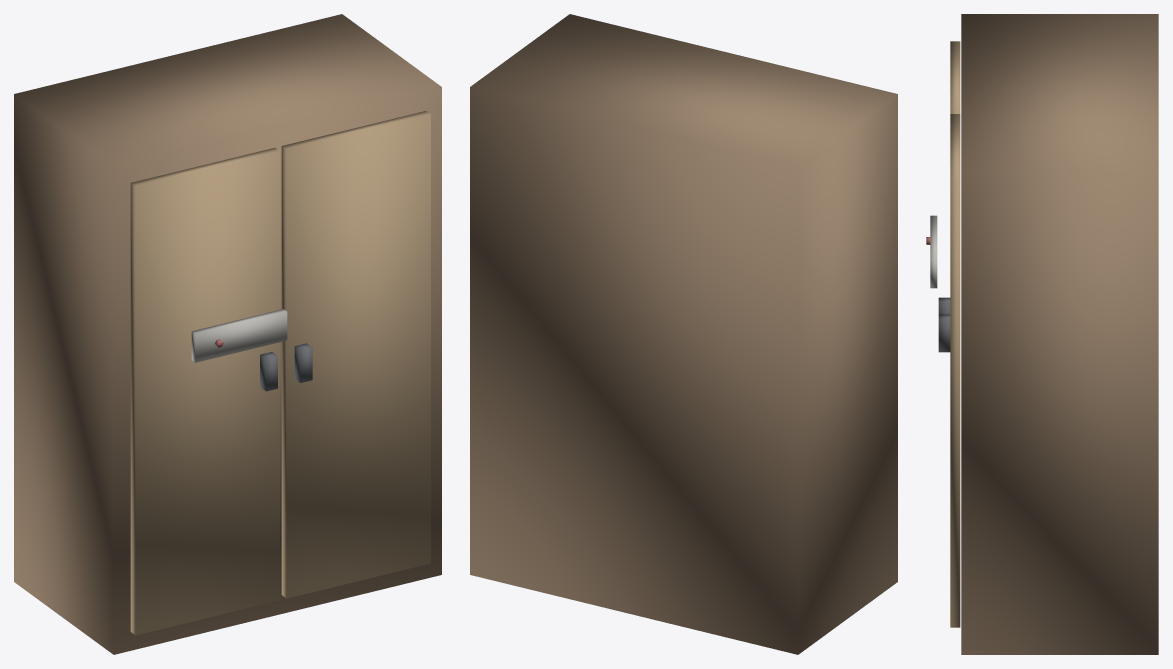
Rendered from dental_instrument_cabinet.glb.
3 views of the same model, side by side, from view 1: azimuth 30°, elevation 25°; view 2: azimuth 150°, elevation 25°; view 3: azimuth 270°, elevation 25° (orthographic).
Parts seen in each view (by area): view 1: world; view 2: world; view 3: world.
Boxes of the visible parts, x1,y1,x2,y2 form: world: (14,14,441,654); world: (470,14,897,654); world: (926,14,1158,654).
Bounding box in the file's own units: 0.95 × 1.35 × 0.5885.
